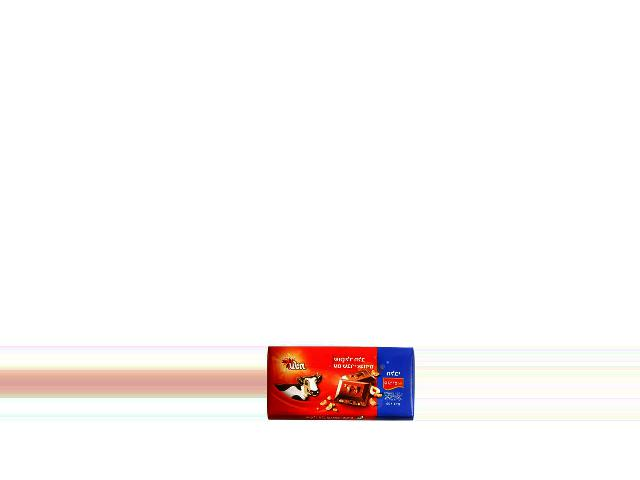chocolate: (267, 347, 412, 426)
